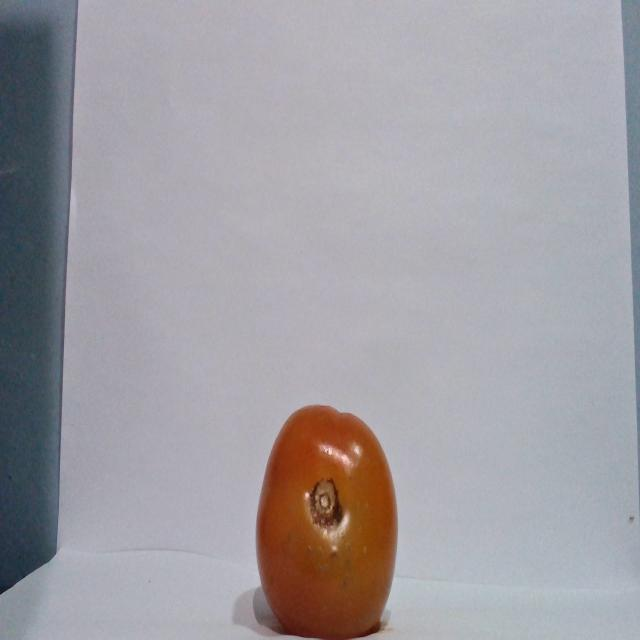Red: (254, 402, 398, 638)
